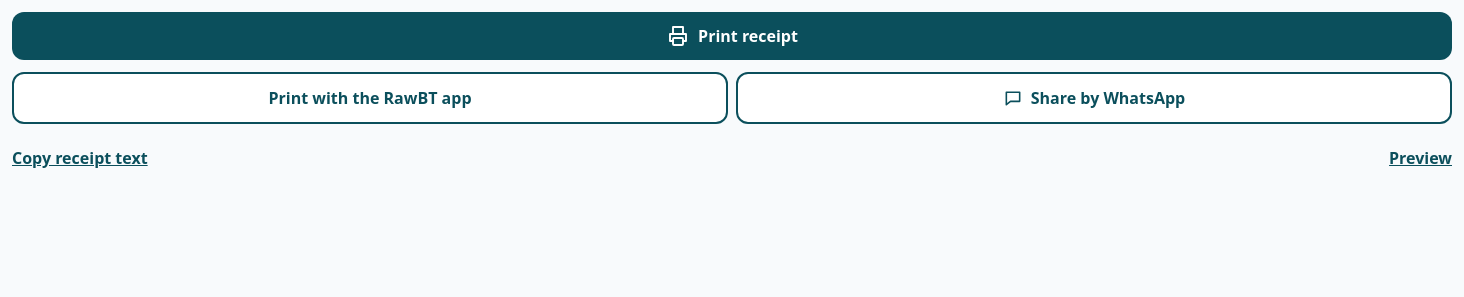
Test case: <PrintActions /> › copies the text; if the clipboard is blocked the text is shown so it can be selected by hand
Click the button "Copy receipt text" at (80, 158), box [12,136,148,180]
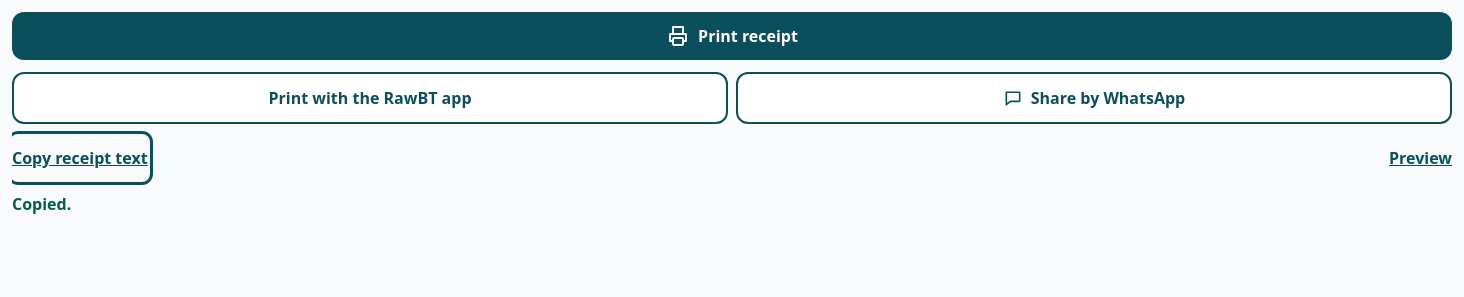
Expected: the text "Copied." is shown, [12,193,71,215]
Click the button "Copy receipt text" at (80, 158), box [12,136,148,180]
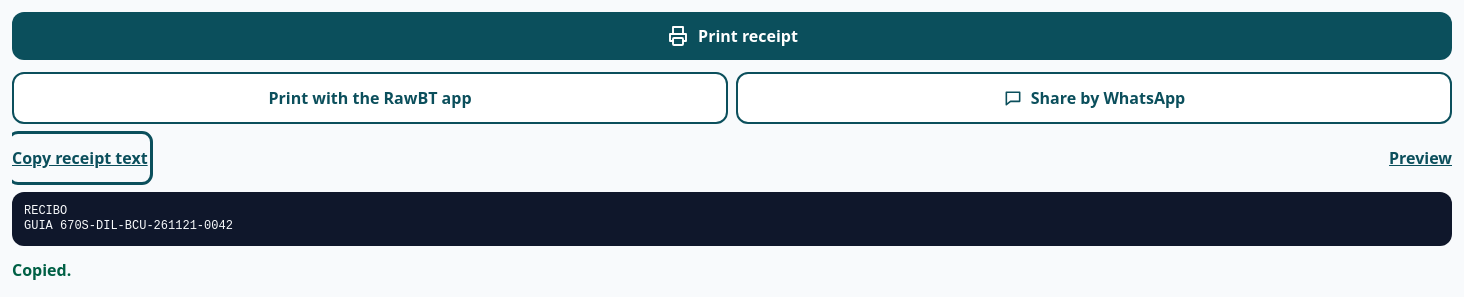
Expected: the text named "Preview" shows "GUIA 670S-DIL-BCU-261121-0042", [24,204,233,233]
